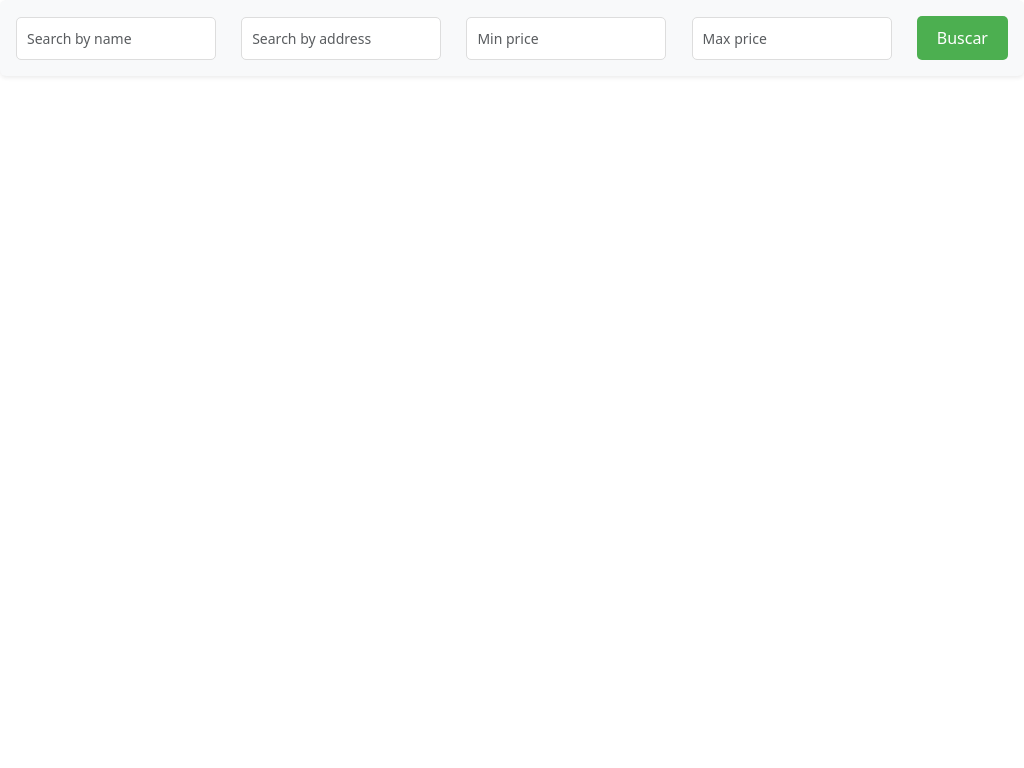
it: Filters Component › should show an error message when only one of minPrice or maxPrice is provided
The width and height of the screenshot is (1024, 768).
Type "100" into the number field with placeholder "Min price".
click(566, 38); type("100")  # box [466,16,666,60]
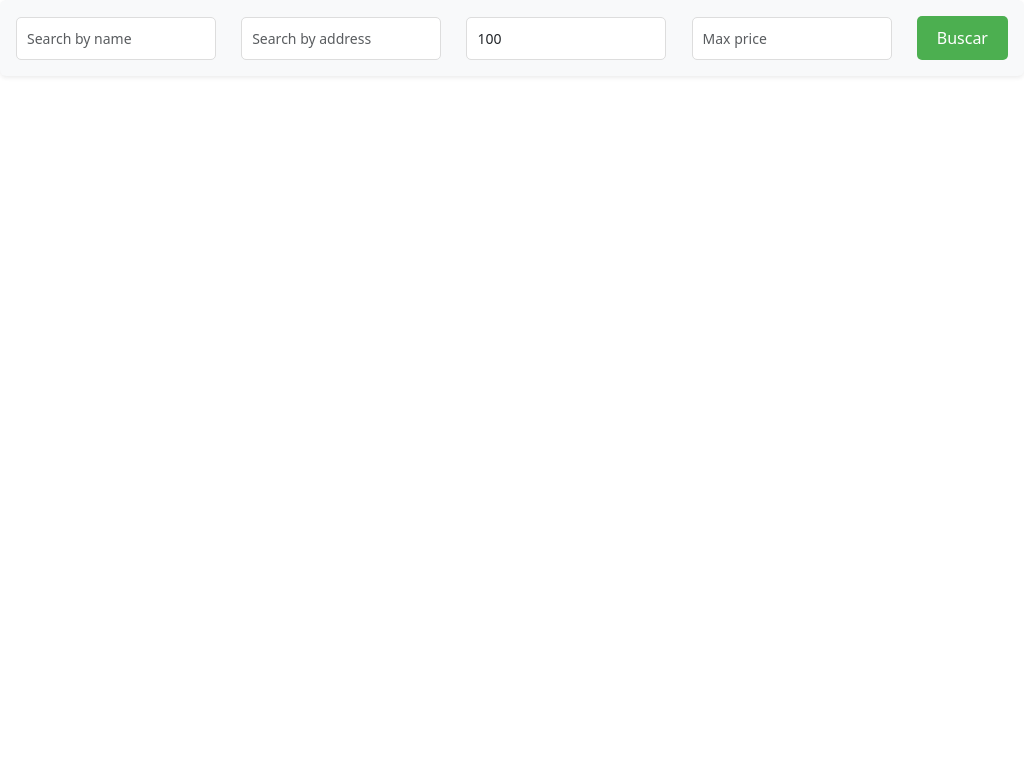
Click the button "Buscar".
click(962, 38)  # box [917,16,1008,60]
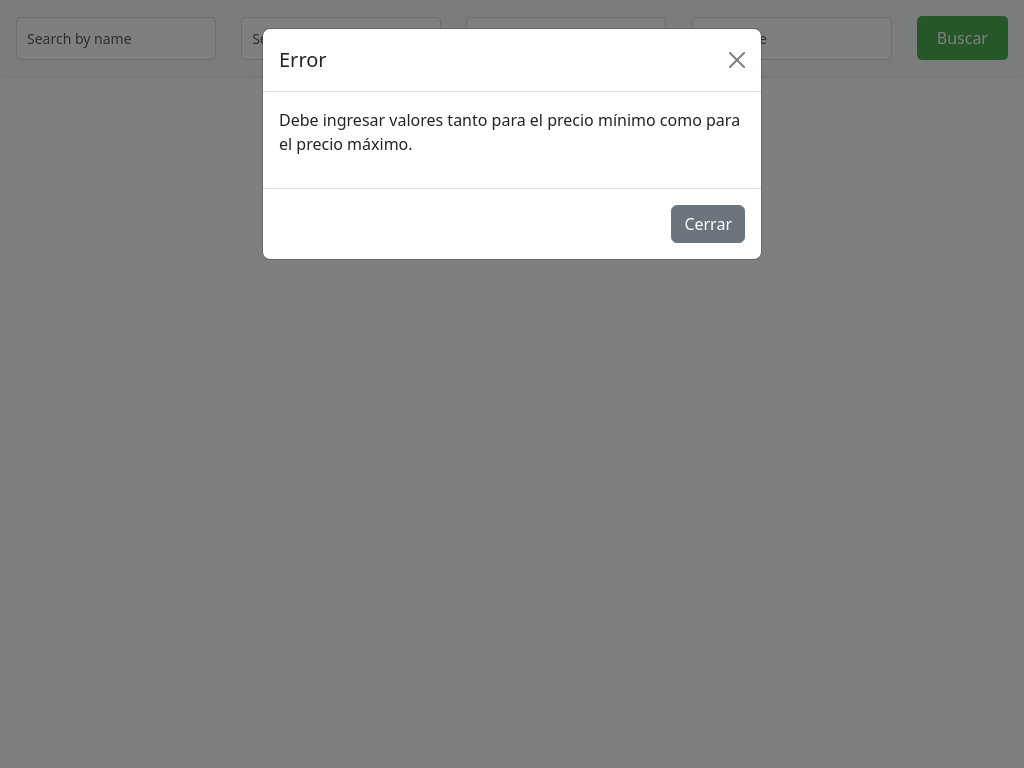
Now the text "Debe ingresar valores tanto para el precio mínimo como para el precio máximo." is shown, box [279,108,745,156]
